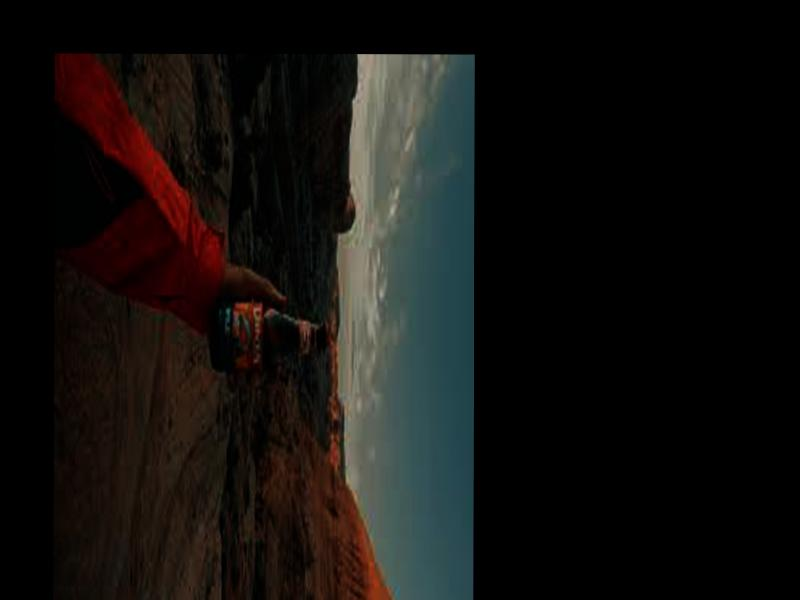Beer: (211, 293, 327, 375)
